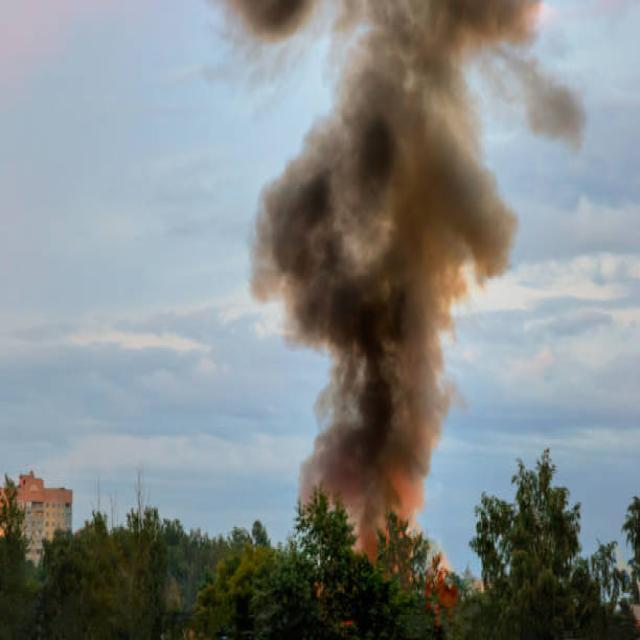Smoke: (210, 0, 584, 551)
